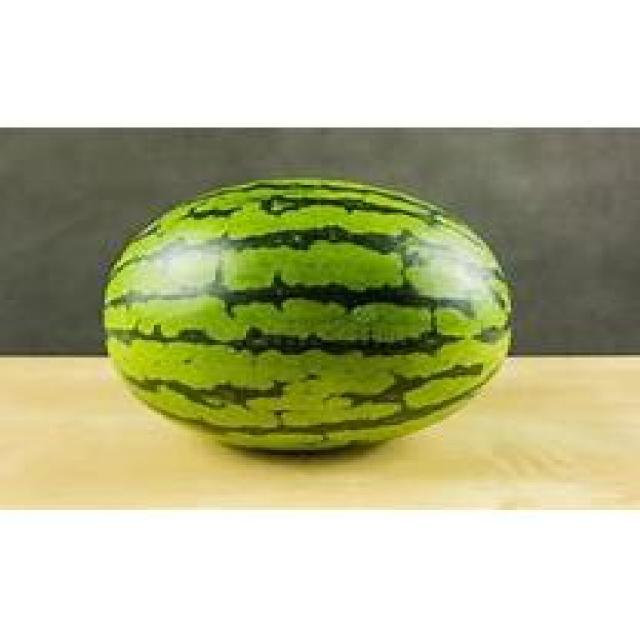watermelon: (102, 179, 511, 457)
